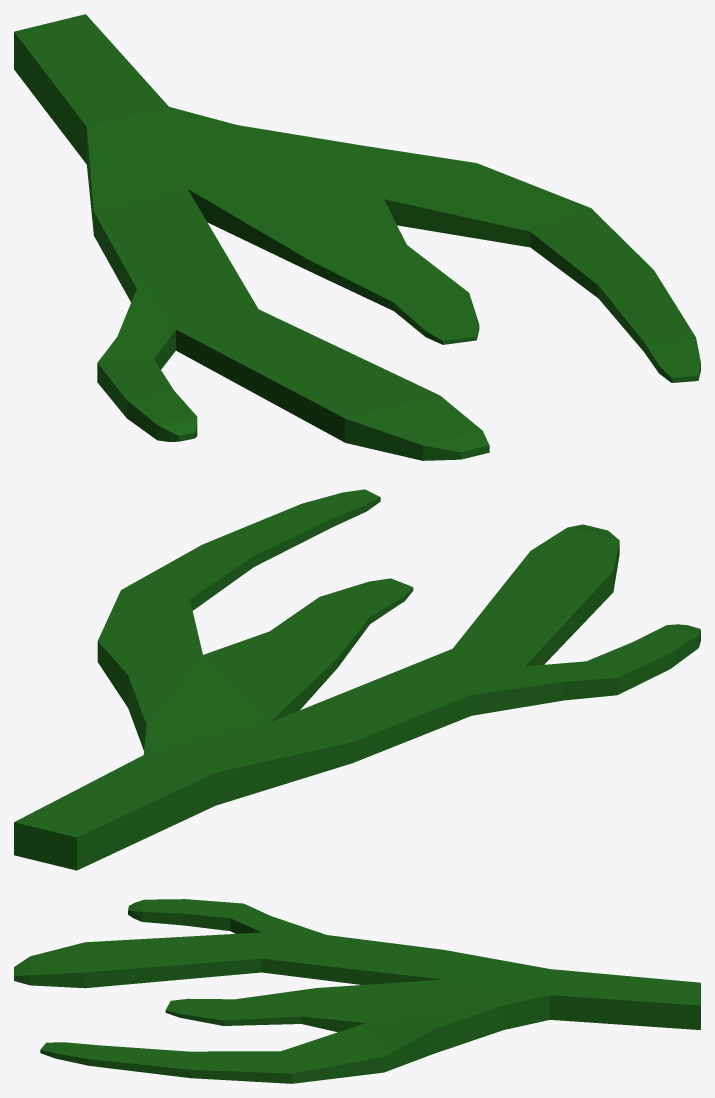
Rendered from Alga.fbx.
3 renders of one model, top to bottom at view 1: azimuth 30°, elevation 25°; view 2: azimuth 150°, elevation 25°; view 3: azimuth 270°, elevation 25°, orthographic. The views are drawn at different scales.
Visible parts, largest first — view 1: Cube; view 2: Cube; view 3: Cube.
Part boxes in pixels (<box>): Cube: <box>14,14,700,460</box>; Cube: <box>14,489,700,870</box>; Cube: <box>14,899,700,1083</box>.
Bounding box in the file's own units: 131 × 8.66 × 219.
